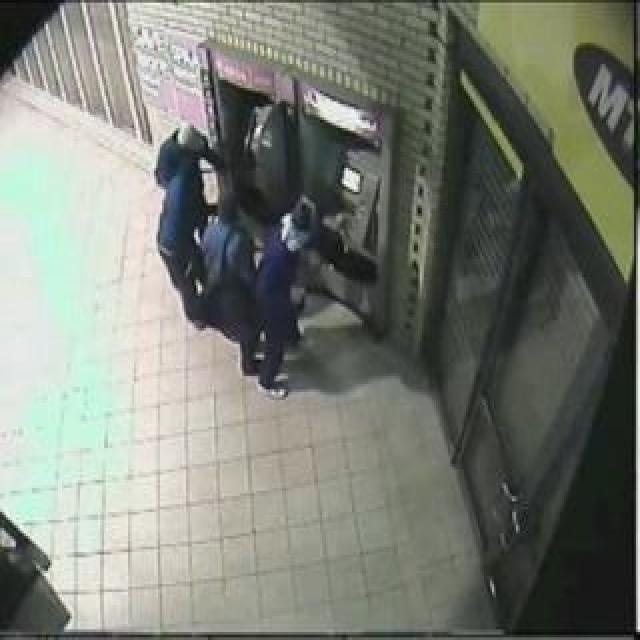thief: (137, 122, 336, 314)
